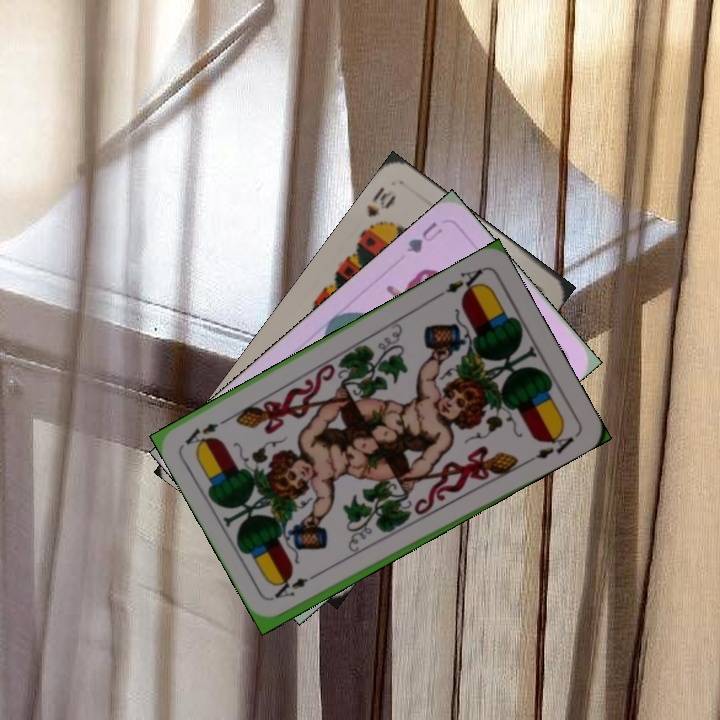EA: (432, 264, 487, 300), (270, 567, 324, 601)
GU: (402, 217, 446, 256)
S10: (359, 183, 399, 234)
